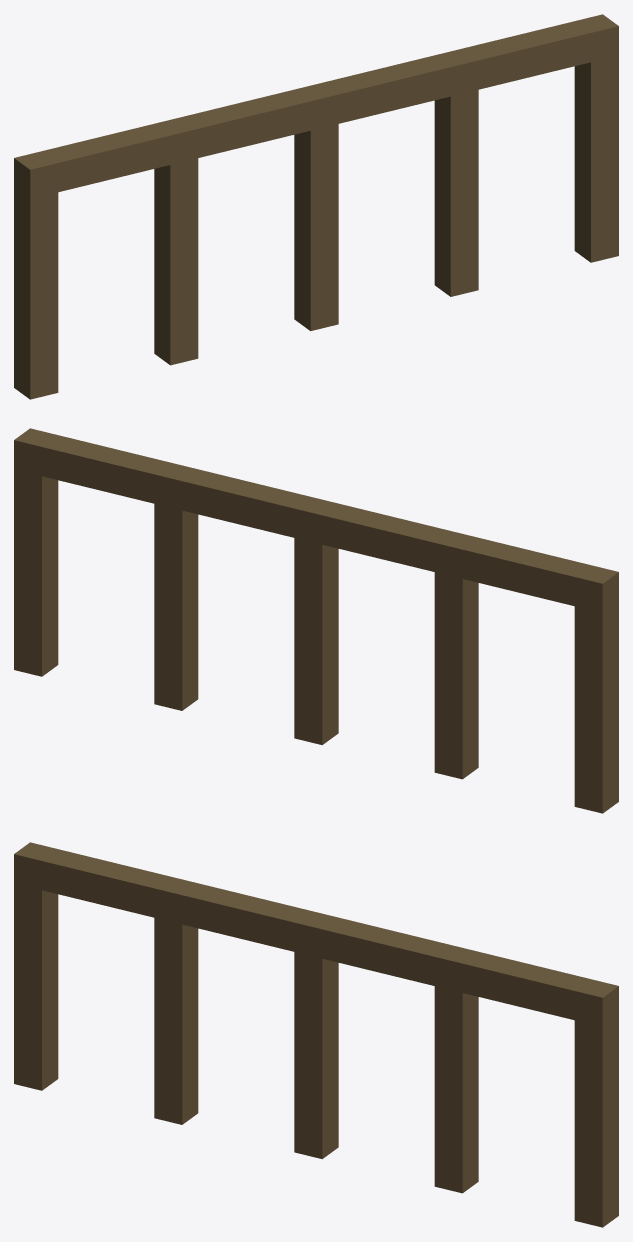
Rendered from roman_fence_wood_2.fbx.
The picture shows the model from 3 angles, top to bottom: view 1: azimuth 30°, elevation 25°; view 2: azimuth 150°, elevation 25°; view 3: azimuth 330°, elevation 25°; orthographic projection.
Parts seen in each view (by area): view 1: Cube.004; view 2: Cube.004; view 3: Cube.004.
Part boxes in pixels (x1,y1,x2,y2): Cube.004: [14, 14, 618, 399]; Cube.004: [14, 428, 618, 813]; Cube.004: [14, 842, 618, 1227].
Size of the model in its own units: 3.15 by 1.17 by 0.15.
